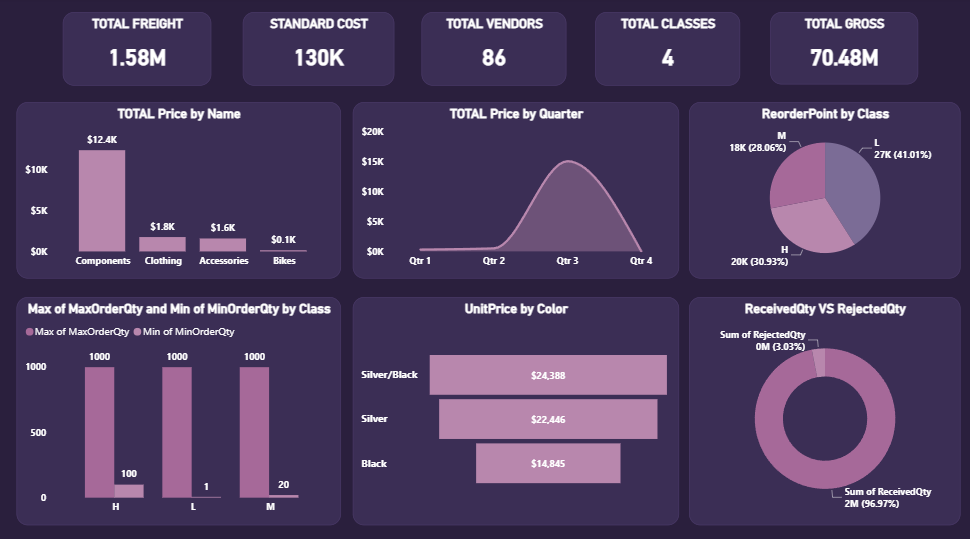

The page's visual inventory and layout, read from the dashboard file:
{"tool":"powerbi","page":{"name":"Page 3","canvas":[1280,720],"ordinal":1},"visuals":[{"type":"card","title":"TOTAL FREIGHT","fields":{"Values":["Sum(PurchaseOrderHeader4.Freight)"]},"box":[84.5,19,195.2,96.4],"z":0},{"type":"card","title":"STANDARD COST","fields":{"Values":["Sum(Products3.StandardCost)"]},"box":[320.2,19,198.8,96.4],"z":1000},{"type":"card","title":"TOTAL VENDORS","fields":{"Values":["Count(ProductVendor2.VendorID)"]},"box":[554.8,19,190.5,96.4],"z":2000},{"type":"card","title":"TOTAL CLASSES","fields":{"Values":["Count(Products3.Class)"]},"box":[783.3,19,190.5,96.4],"z":3000},{"type":"card","title":"TOTAL GROSS","fields":{"Values":["Sum(PurchaseOrderHeader4.TotalGross)"]},"box":[1013.1,20.2,194,95.2],"z":4000},{"type":"columnChart","title":"TOTAL Price by Name","fields":{"Category":["Categories1.Name"],"Y":["Sum(ProductVendor2.Price)"]},"box":[23.8,138.1,426.2,232.1],"z":5000},{"type":"areaChart","title":"TOTAL Price by Quarter","fields":{"Category":["ProductVendor2.LastReceiptDate.Variation.Date Hierarchy.Year","ProductVendor2.LastReceiptDate.Variation.Date Hierarchy.Quarter","ProductVendor2.LastReceiptDate.Variation.Date Hierarchy.Month"],"Y":["Sum(ProductVendor2.Price)"]},"box":[465.5,138.1,428.6,232.1],"z":6000},{"type":"pieChart","title":" ReorderPoint by Class","fields":{"Category":["Products3.Class"],"Y":["Sum(Products3.ReorderPoint)"]},"box":[907.1,138.1,357.1,232.1],"z":7000},{"type":"lineClusteredColumnComboChart","fields":{"Y":["Max(ProductVendor2.MaxOrderQty)","Min(ProductVendor2.MinOrderQty)"],"Category":["Products3.Class"]},"box":[23.8,394,426.2,300],"z":8000},{"type":"funnel","title":"UnitPrice by Color","fields":{"Category":["Products3.Color"],"Y":["Sum(PurchaseOrderDetail6.UnitPrice)"]},"box":[465.5,394,428.6,300],"z":9000},{"type":"donutChart","title":"ReceivedQty VS  RejectedQty","fields":{"Y":["Sum(PurchaseOrderDetail6.ReceivedQty)","Sum(PurchaseOrderDetail6.RejectedQty)"]},"box":[907.1,394,357.1,300],"z":10000}]}

Visuals, with their boxes in screenshot pixels (x1, y1, x2, y2), scaled from the page's 1280x720 canvas onto the 970x539 screenshot:
"TOTAL FREIGHT" card: <box>64,14,212,86</box>
"STANDARD COST" card: <box>243,14,393,86</box>
"TOTAL VENDORS" card: <box>420,14,565,86</box>
"TOTAL CLASSES" card: <box>594,14,738,86</box>
"TOTAL GROSS" card: <box>768,15,915,86</box>
"TOTAL Price by Name" columnChart: <box>18,103,341,277</box>
"TOTAL Price by Quarter" areaChart: <box>353,103,678,277</box>
" ReorderPoint by Class" pieChart: <box>687,103,958,277</box>
lineClusteredColumnComboChart - Max(ProductVendor2.MaxOrderQty) x Min(ProductVendor2.MinOrderQty): <box>18,295,341,520</box>
"UnitPrice by Color" funnel: <box>353,295,678,520</box>
"ReceivedQty VS  RejectedQty" donutChart: <box>687,295,958,520</box>
